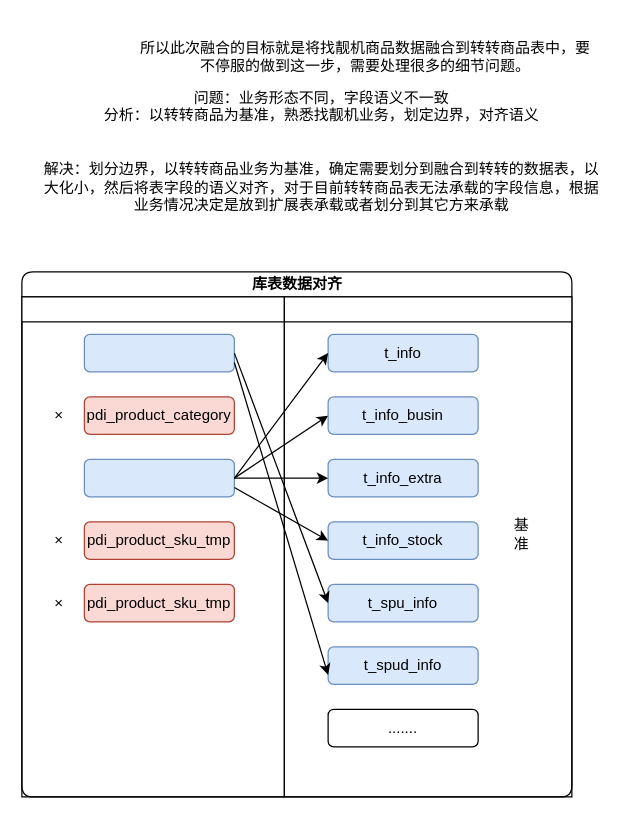
Image size: 625x819. Some labels were removed from this diagram. Here are the shapes that lost their labels. From the top down, the box of each, then its label:
(83, 333, 234, 372): pdi_product
(83, 458, 234, 497): pdi_product_sku
(21, 296, 284, 797): 找靓机靓选业务商品表
(283, 296, 572, 797): 转转商品表
